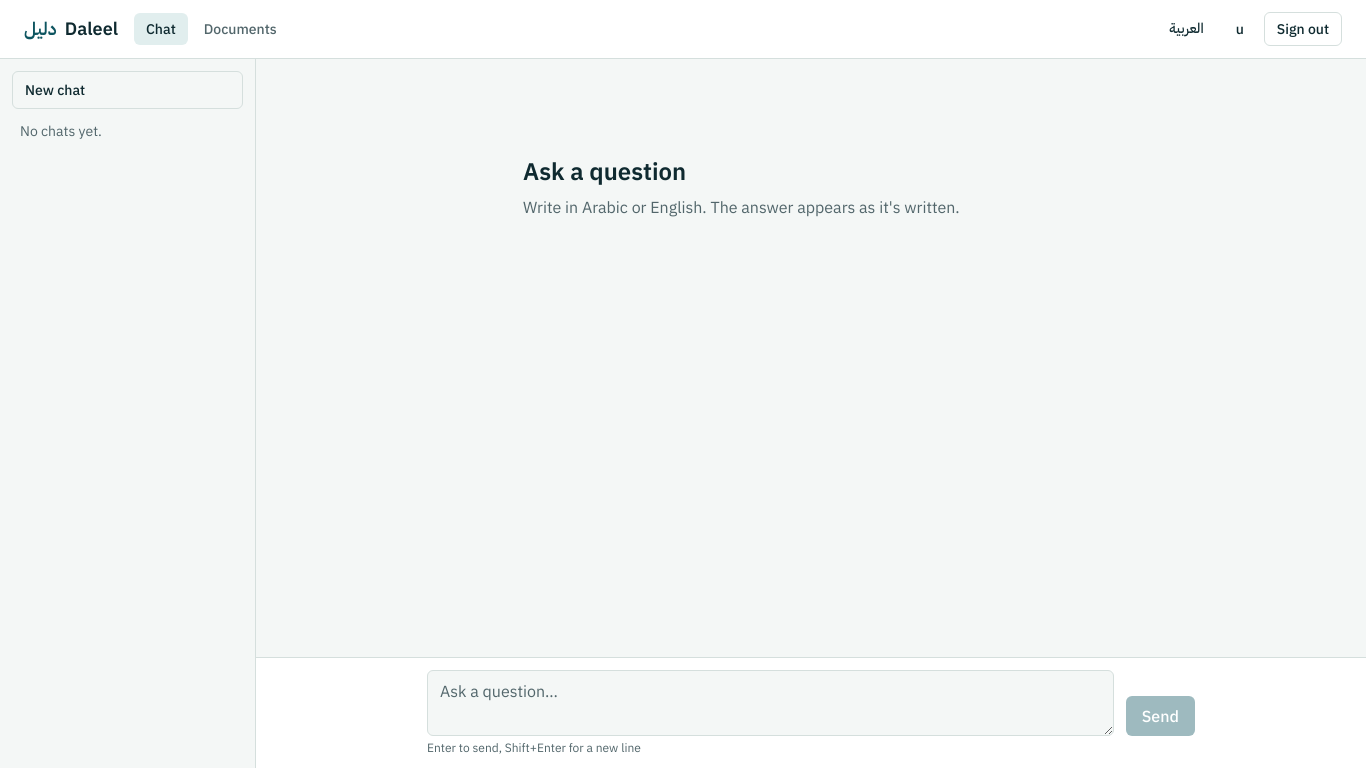
Test: App › streams an answer into a new chat
Type "Hello" into the text box named "Message" at (770, 703), box [427,670,1114,736]
Then press Enter
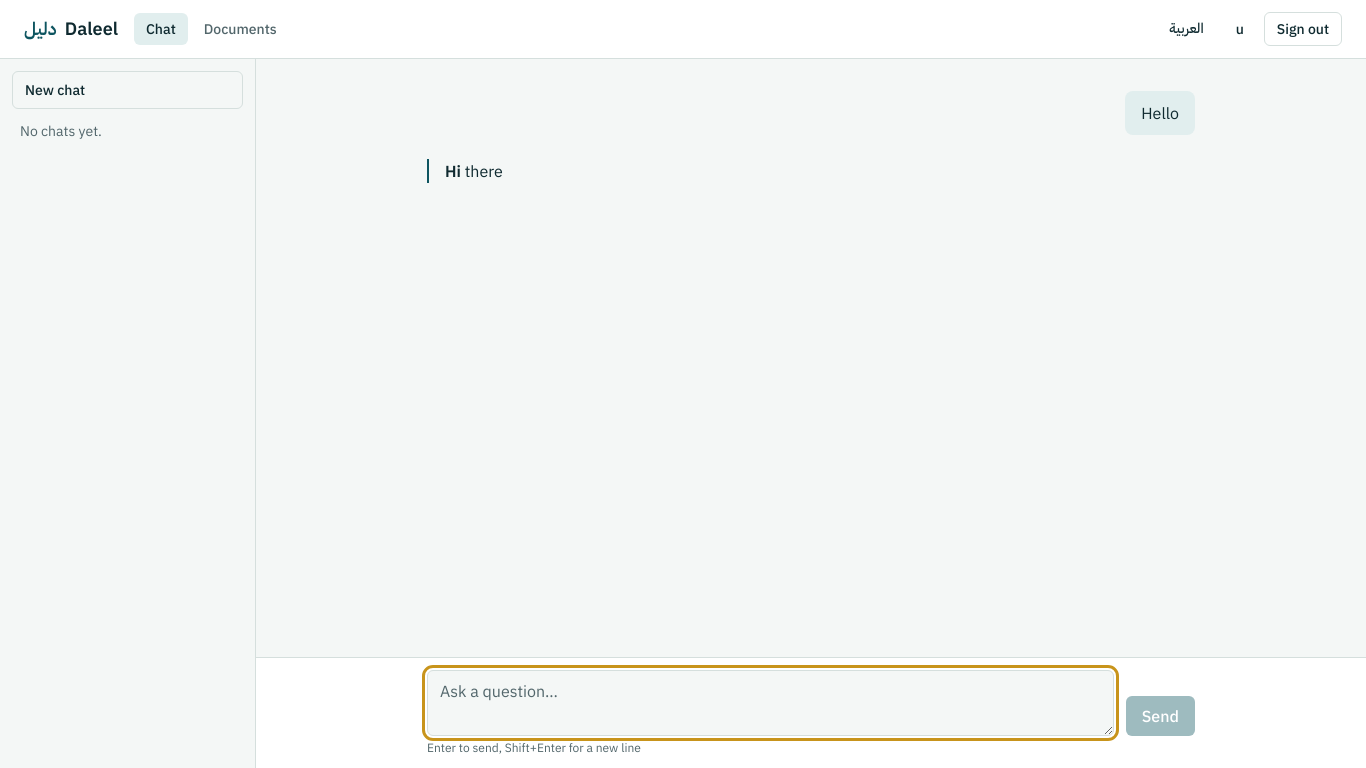
Expected: the text "Hi" is shown, [445,161,461,181]
Expected: the text "Hello" is shown, [1141,101,1179,125]
